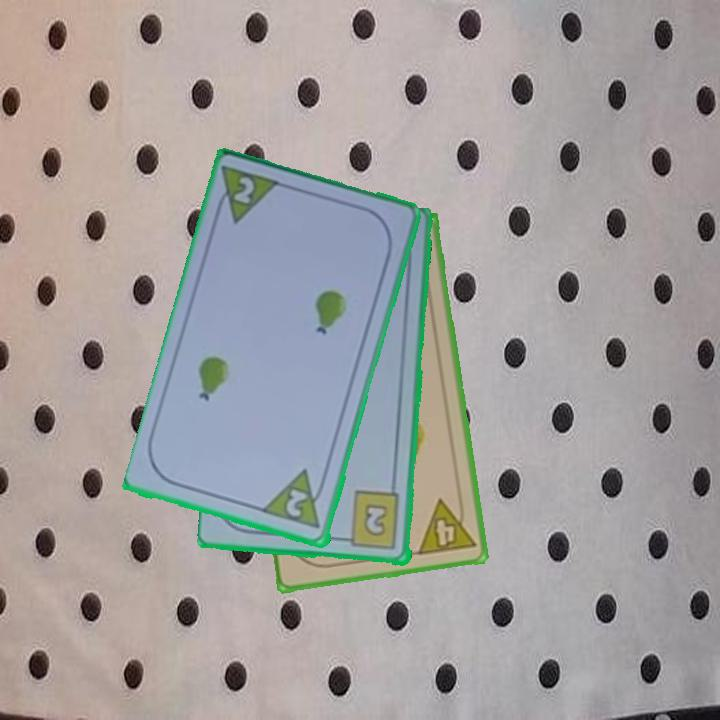2b: (338, 489, 403, 553)
2p: (210, 162, 285, 228), (282, 486, 311, 521)
4p: (413, 493, 478, 558)
